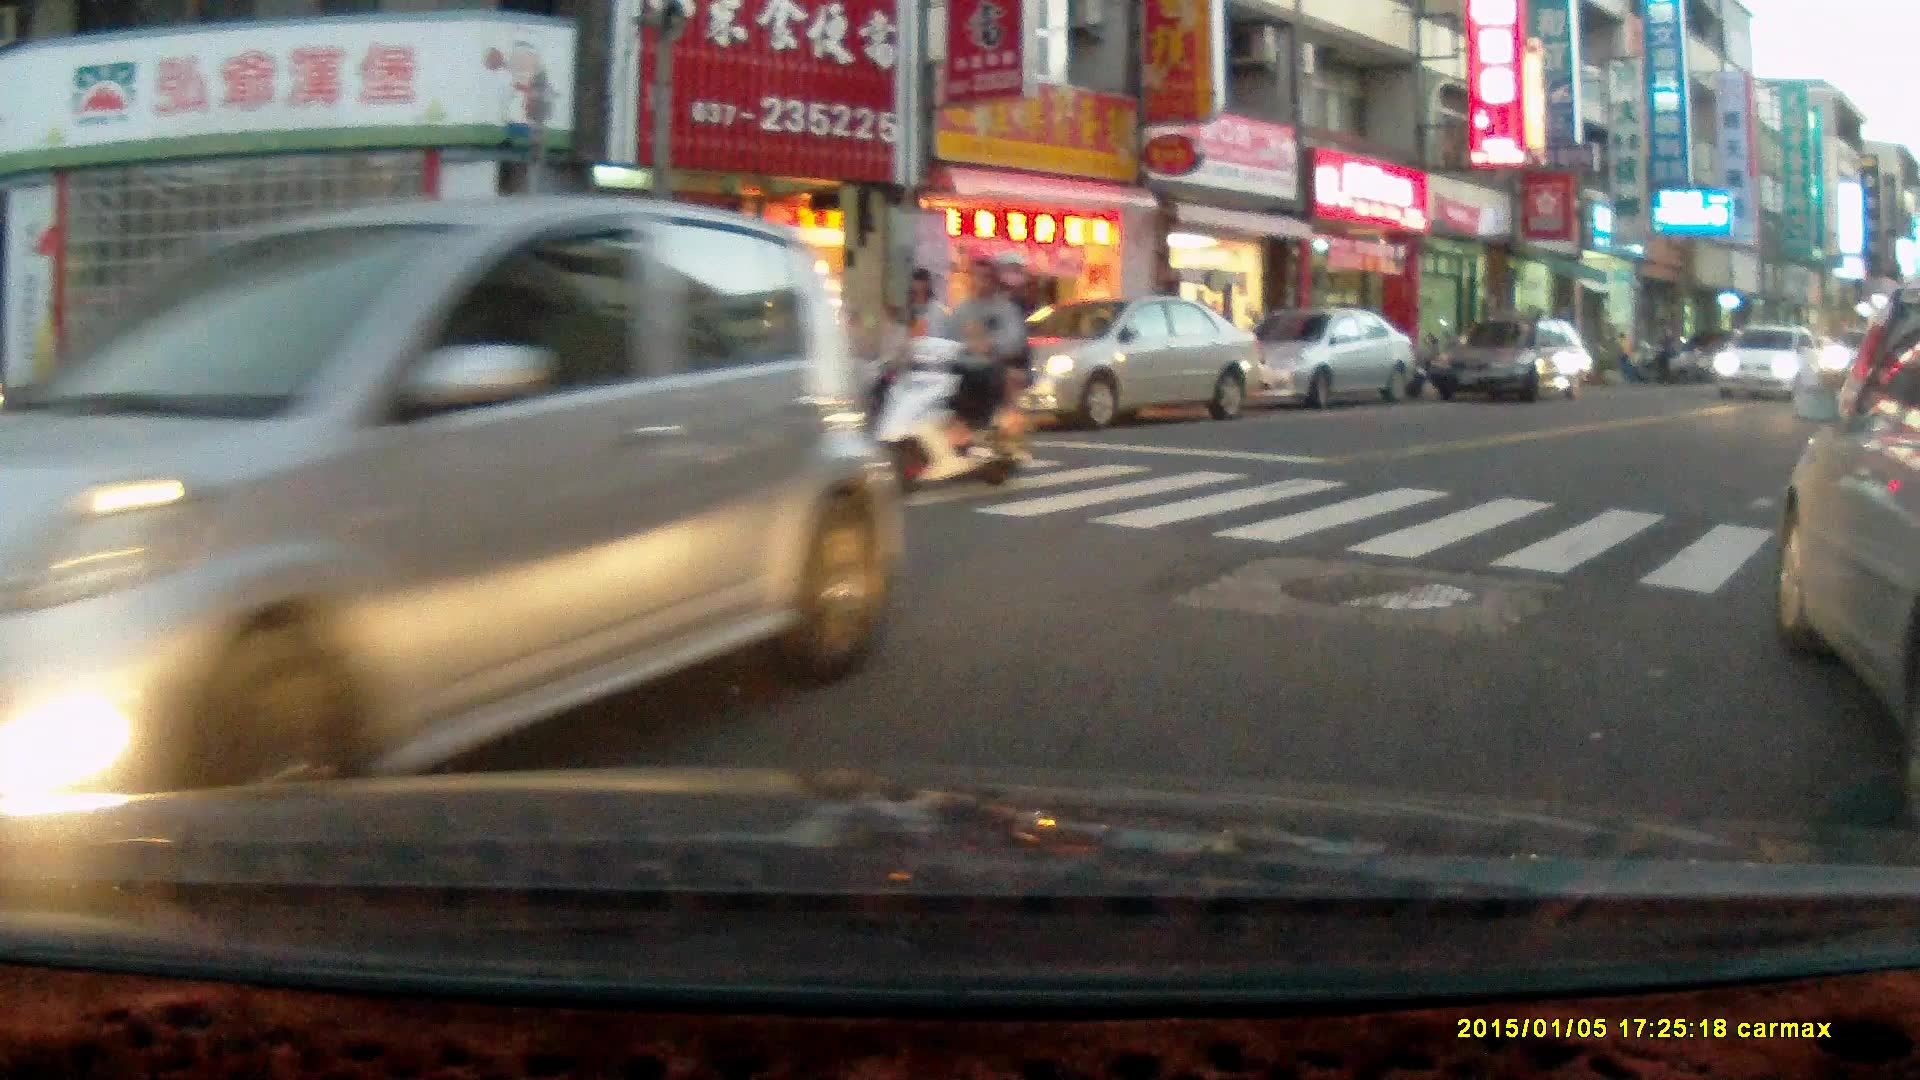pedestrian: (897, 264, 944, 396)
rider: (861, 247, 1035, 503)
vehicle: (1, 190, 911, 867), (1768, 330, 1920, 742), (973, 296, 1267, 425), (1226, 308, 1420, 405), (1429, 316, 1596, 409), (1710, 324, 1831, 401)
